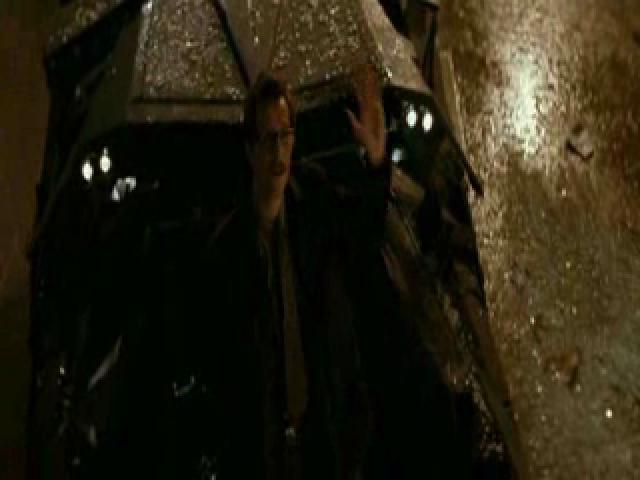L: (220, 68, 410, 476)
